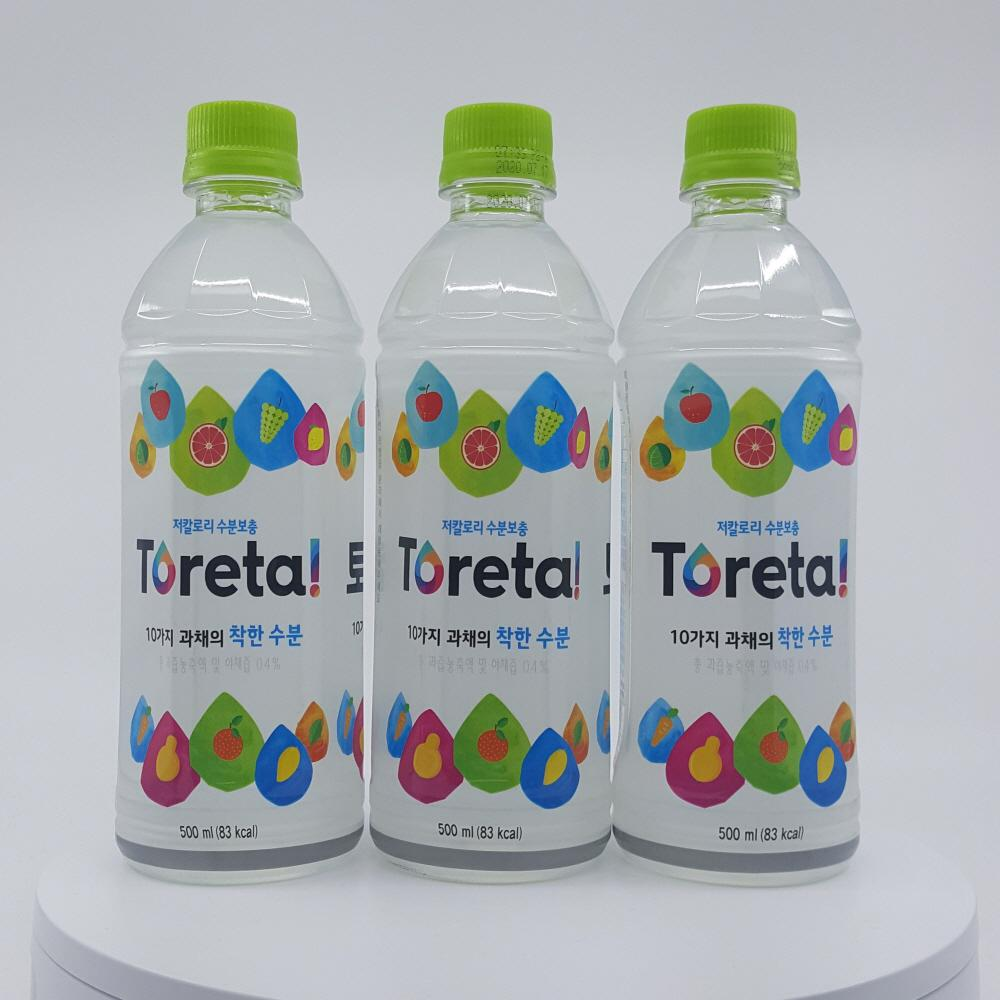toreta: (622, 97, 870, 888), (120, 90, 364, 877), (375, 93, 614, 888)
